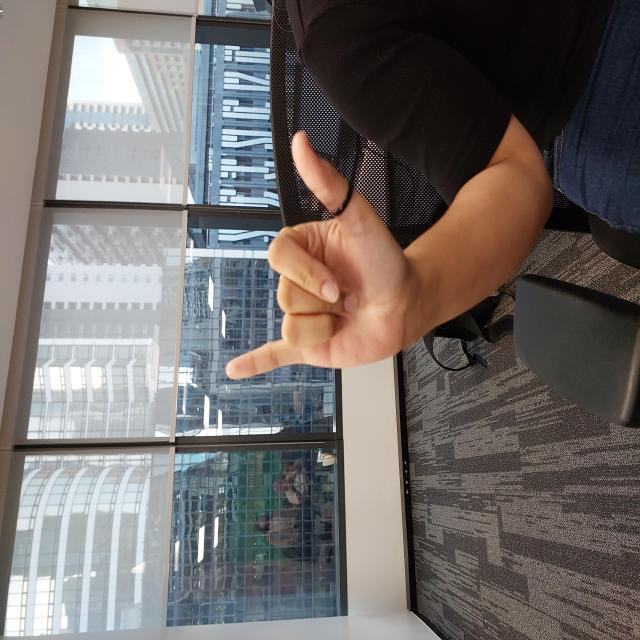Y: (258, 223, 513, 416)
